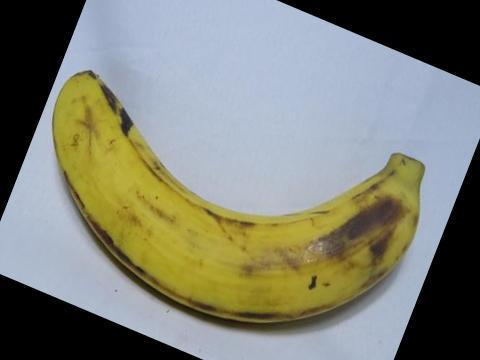overripe: (37, 57, 440, 333)
